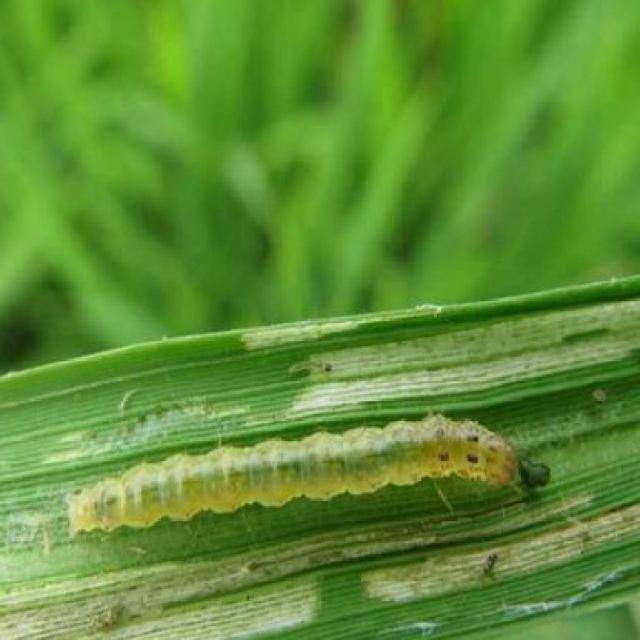leaf-folder: (59, 390, 546, 545)
